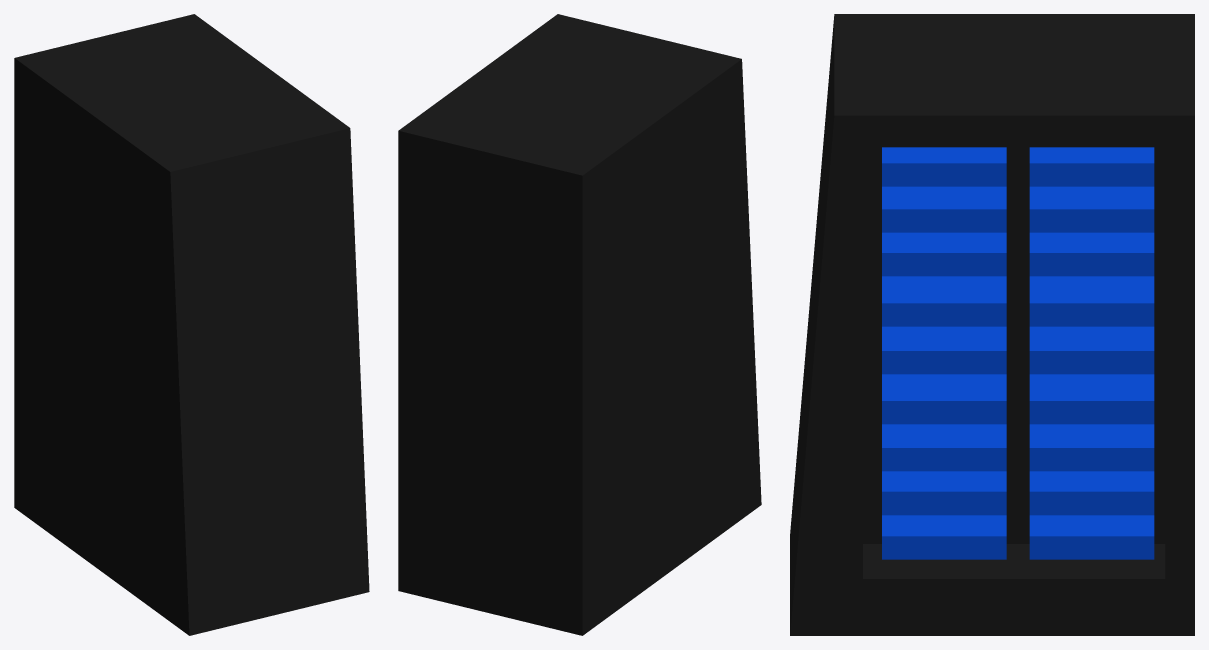
File: AngledServer.fbx
3 renders of one model, left to right at view 1: azimuth 30°, elevation 25°; view 2: azimuth 150°, elevation 25°; view 3: azimuth 270°, elevation 25°, orthographic. The views are drawn at different scales.
Parts seen in each view (by area): view 1: pasted__pCube4; view 2: pasted__pCube4; view 3: pasted__pCube4.
Boxes of the visible parts, bbox=[...] form: pasted__pCube4: bbox=[14, 14, 369, 635]; pasted__pCube4: bbox=[398, 14, 761, 635]; pasted__pCube4: bbox=[790, 14, 1194, 635].
Size of the model in its own units: 4.82 by 11.51 by 8.12.
